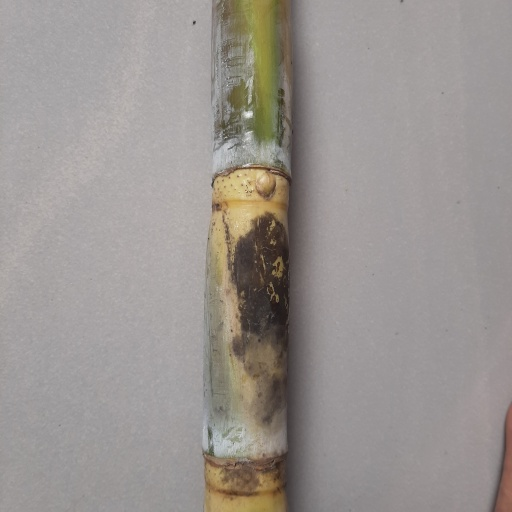Bud: (253, 169, 276, 200)
